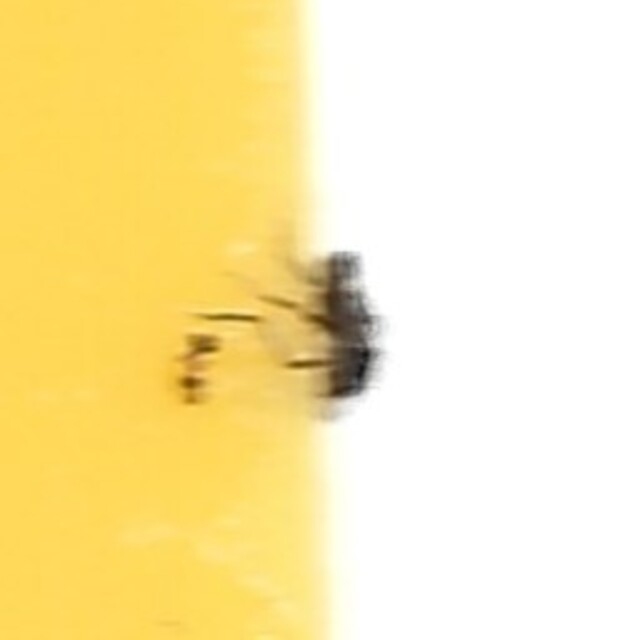Brachycera: (250, 229, 390, 411)
